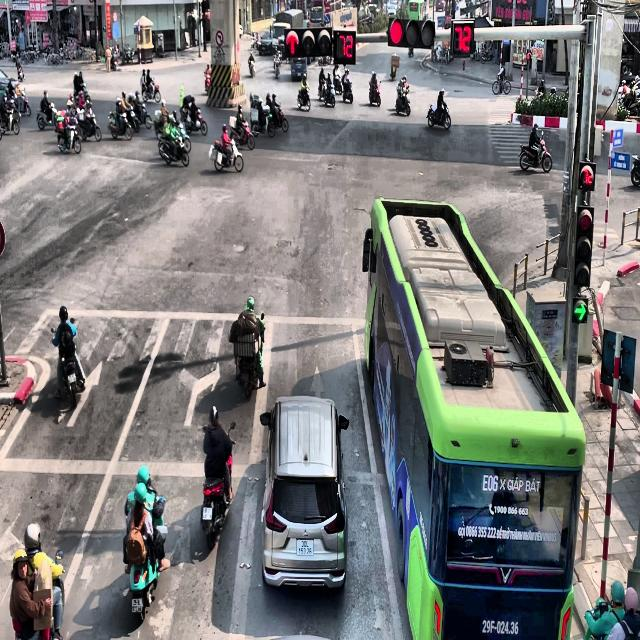lisence_plate: (480, 617, 520, 636), (295, 538, 314, 557), (131, 595, 144, 614), (201, 505, 213, 521)
